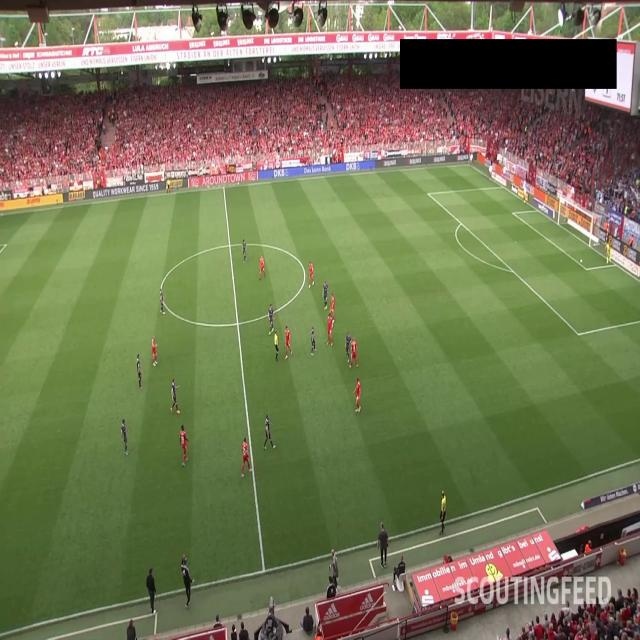Ball: (580, 258, 583, 264)
GoalKeeper: (604, 243, 612, 265)
Referee: (439, 490, 447, 537), (274, 330, 280, 361), (167, 178, 171, 194)
TEAM 1: (178, 423, 190, 467), (241, 438, 253, 478), (354, 378, 364, 413), (326, 313, 335, 348), (284, 326, 293, 360), (349, 337, 358, 368), (329, 293, 336, 325), (308, 260, 315, 290), (258, 254, 266, 280), (152, 334, 158, 367)
TEAM 2: (263, 413, 277, 451), (169, 380, 180, 416), (120, 418, 130, 457), (136, 353, 144, 390), (309, 328, 317, 356), (322, 280, 329, 312), (268, 303, 275, 335), (160, 287, 167, 315), (345, 332, 351, 362), (241, 239, 248, 263)
